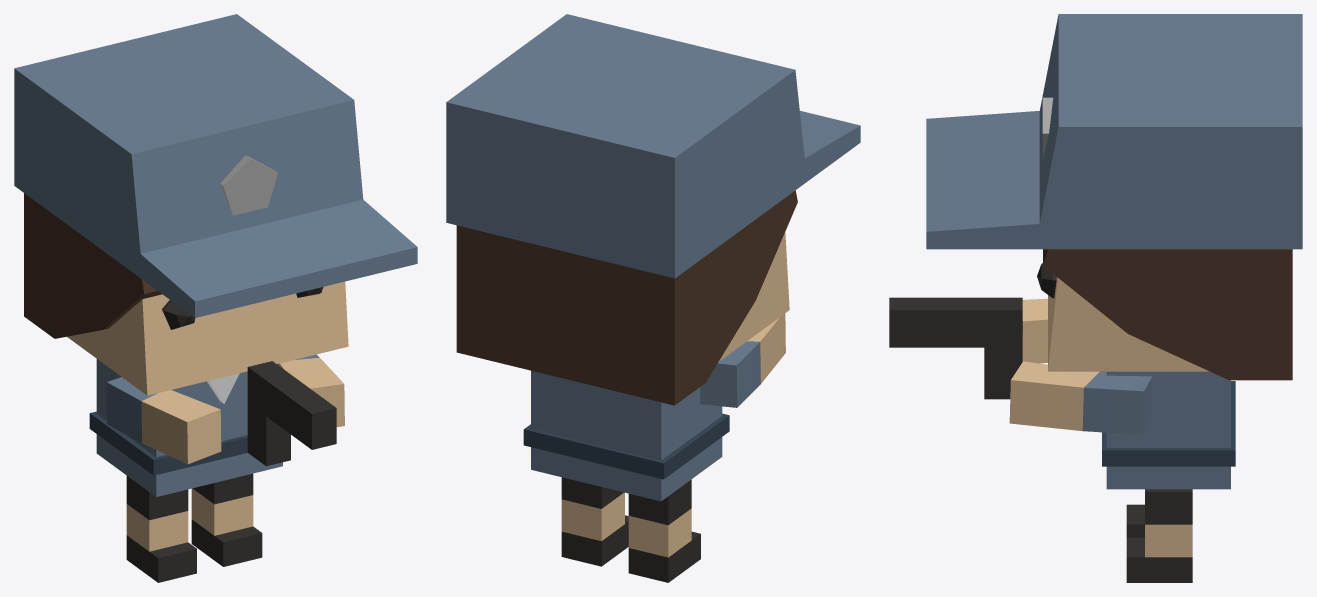
File: Police_Model_parented.fbx
The picture shows the model from 3 angles, left to right: view 1: azimuth 30°, elevation 25°; view 2: azimuth 150°, elevation 25°; view 3: azimuth 270°, elevation 25°; orthographic projection. The views are drawn at different scales.
Visible parts, largest first — view 1: Head, Foot, Body, Arms, Gun; view 2: Head, Body, Foot, Arms; view 3: Head, Body, Arms, Gun, Foot.
Boxes of the visible parts, box(x1,y1,x2,y2) form: Head: box(14, 14, 417, 395); Foot: box(126, 473, 262, 582); Body: box(89, 359, 282, 496); Arms: box(106, 354, 344, 464); Gun: box(247, 361, 336, 466); Head: box(446, 14, 860, 405); Body: box(523, 370, 729, 501); Foot: box(561, 477, 700, 582); Arms: box(700, 313, 785, 407); Head: box(926, 14, 1302, 380); Body: box(1101, 371, 1235, 489); Arms: box(1009, 298, 1152, 434); Gun: box(889, 297, 1022, 399); Foot: box(1126, 489, 1192, 582).
Bounding box in the file's own units: 1.11 × 2.22 × 1.71.
